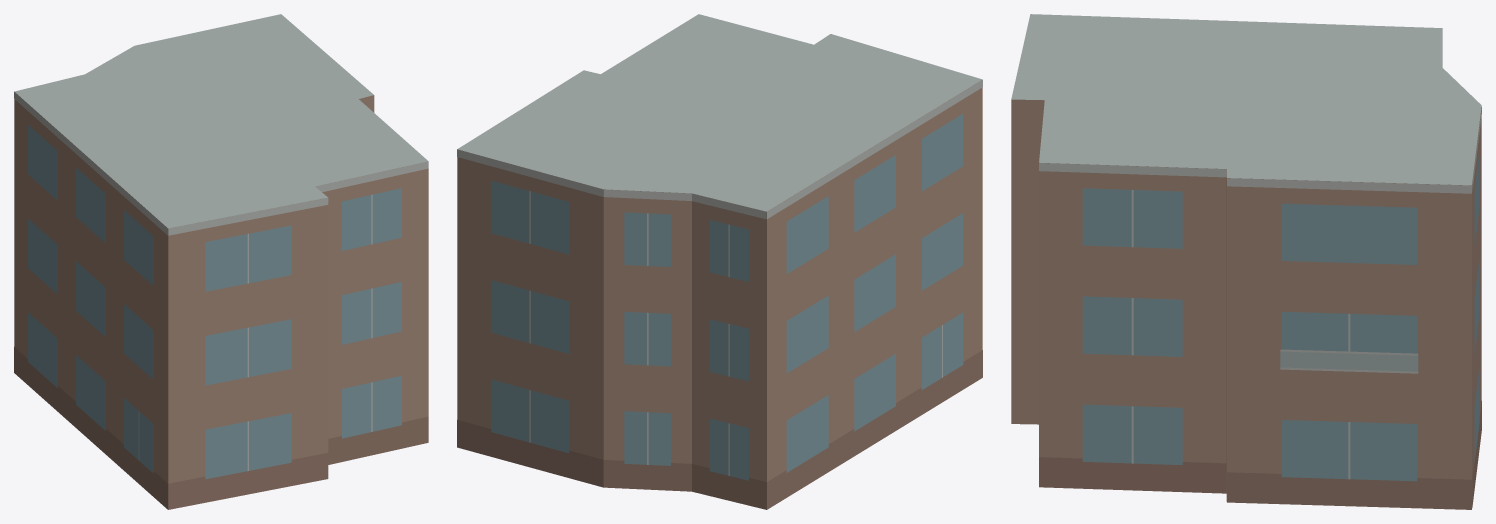
Rendered from survey-upis-32548929.glb.
3 renders of one model, left to right at view 1: azimuth 30°, elevation 25°; view 2: azimuth 150°, elevation 25°; view 3: azimuth 270°, elevation 25°, orthographic. The views are drawn at different scales.
Visible parts, largest first — view 1: survey-upis-32548929.tmp; view 2: survey-upis-32548929.tmp; view 3: survey-upis-32548929.tmp.
Part boxes in pixels (<box>): survey-upis-32548929.tmp: <box>14,14,428,509</box>; survey-upis-32548929.tmp: <box>457,14,982,509</box>; survey-upis-32548929.tmp: <box>1011,14,1481,509</box>.
Size of the model in its own units: 10.73 by 9.46 by 12.45.
